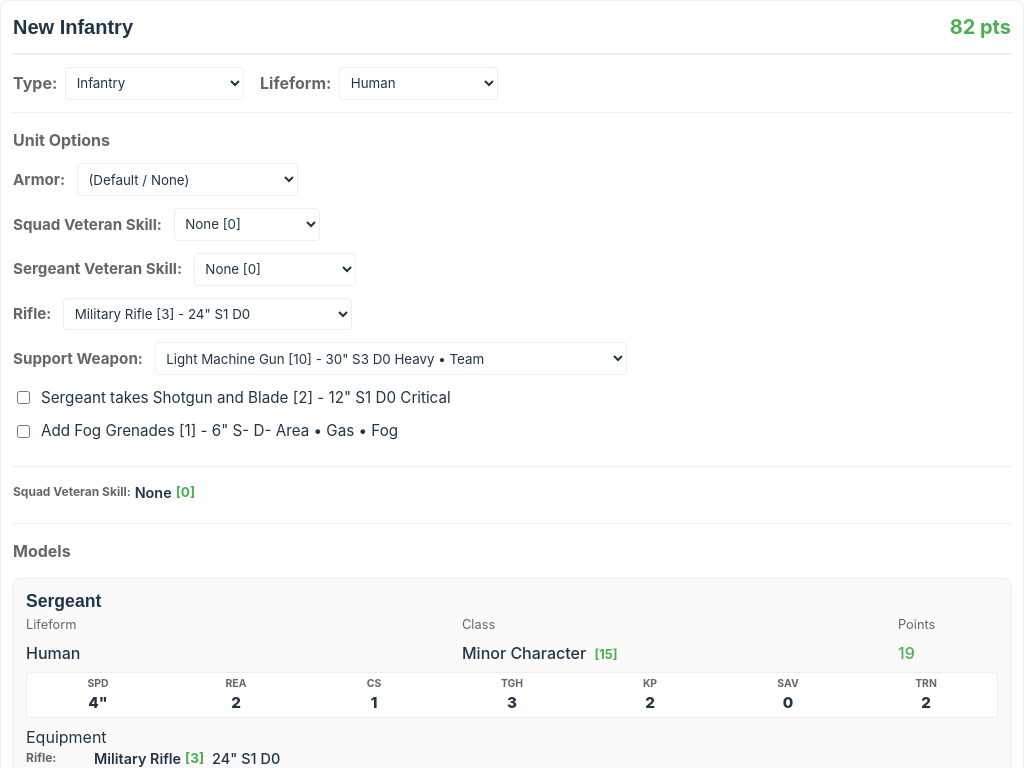
UnitEditor Component › changes unit type
The image size is (1024, 768).
Select "Recon" in the dropdown next to "Type:" at (155, 83), box [65,67,244,100]
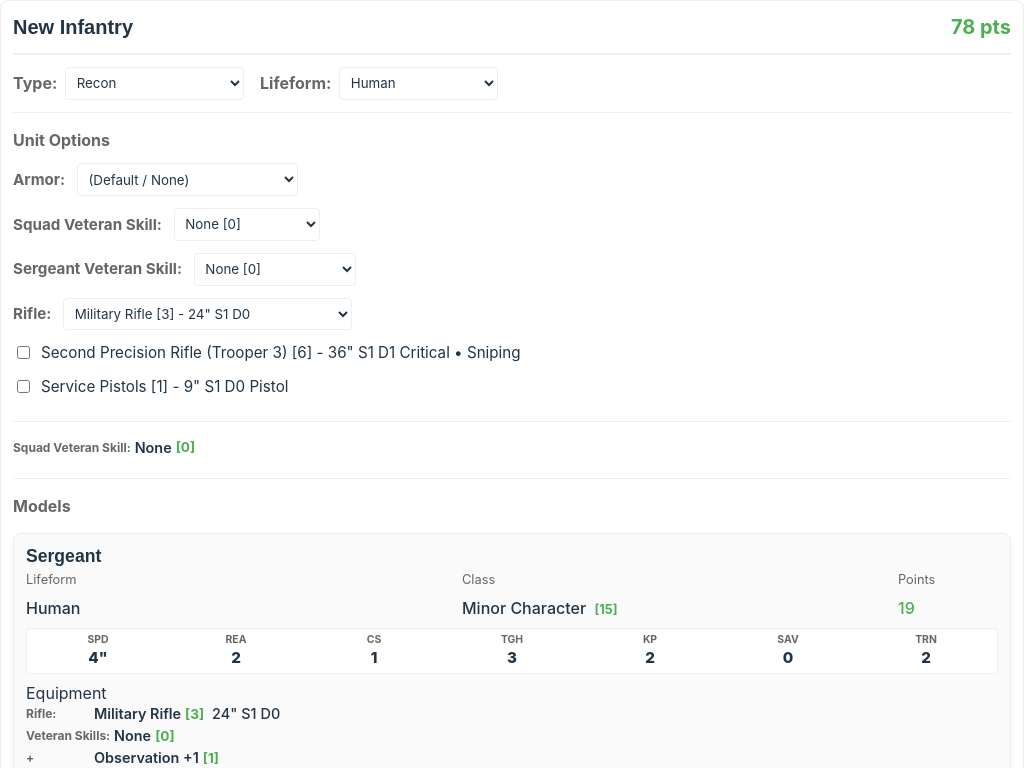
Result: the text with class "unit-points" reads "78 pts" at [951,15,1011,39]
